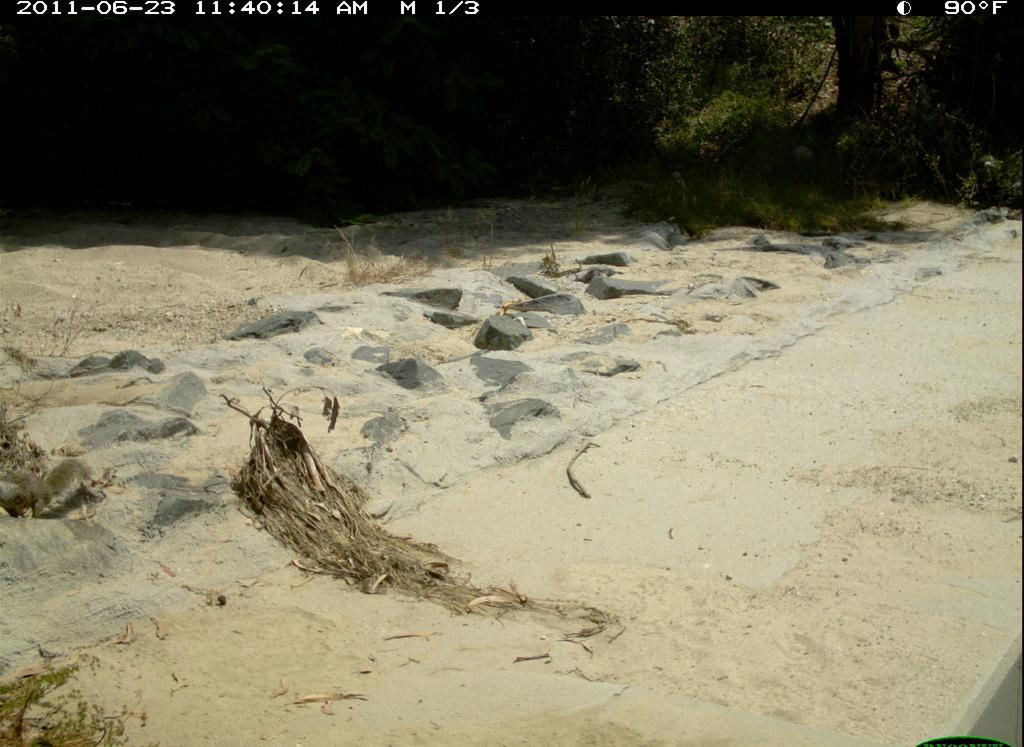squirrel: (2, 449, 100, 525)
